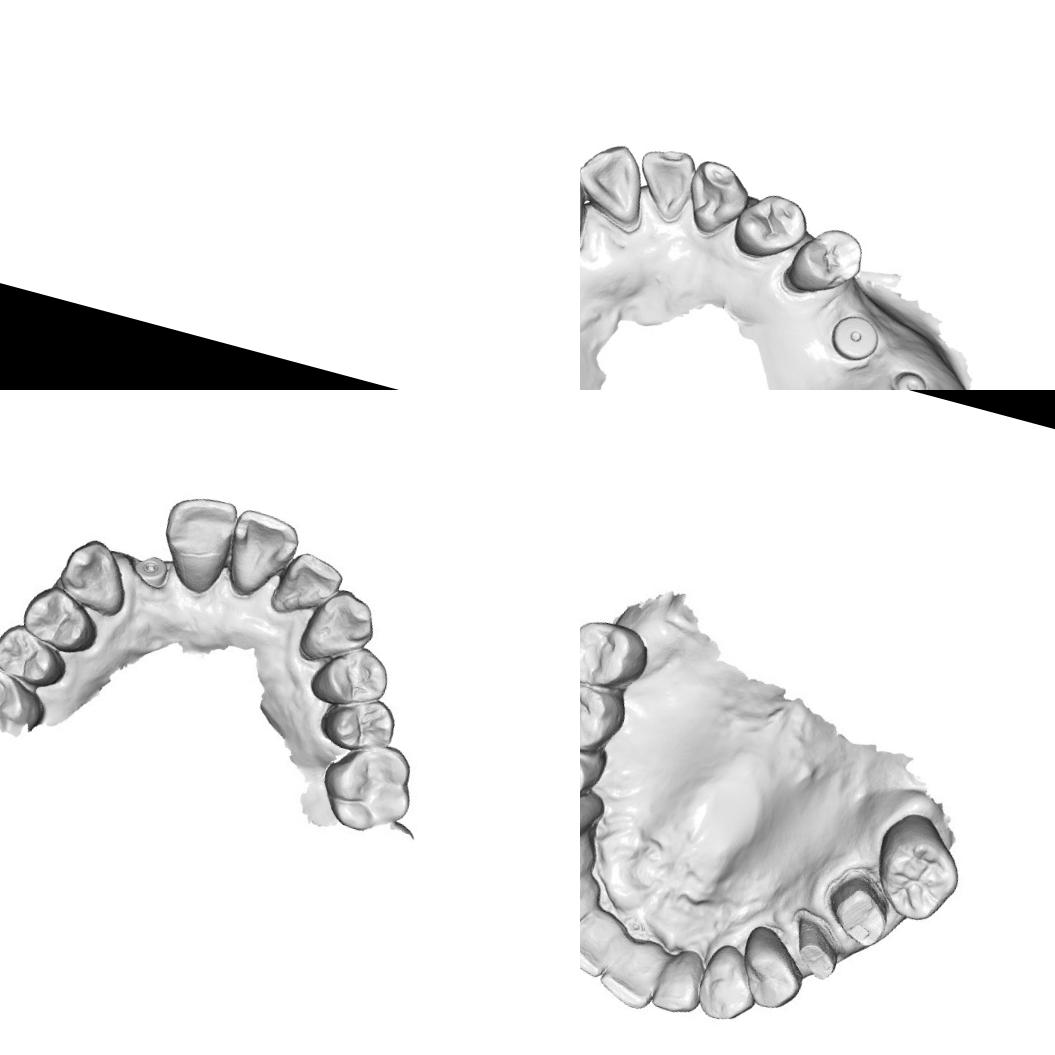canine: (289, 578, 383, 674), (690, 939, 769, 1032), (677, 155, 756, 242), (54, 536, 136, 619), (580, 827, 596, 900)
crown: (818, 872, 900, 954), (784, 907, 855, 984)
implant: (826, 304, 883, 366), (126, 546, 178, 596), (887, 364, 932, 390)
incisor: (152, 488, 245, 596), (218, 507, 304, 609), (580, 134, 655, 228), (626, 139, 702, 228), (595, 929, 669, 1009), (272, 546, 348, 620), (653, 944, 710, 1018), (580, 900, 629, 980), (580, 153, 600, 251), (580, 865, 602, 938)
molar: (861, 806, 973, 928), (313, 730, 423, 844), (580, 612, 646, 692), (580, 675, 622, 757)
premolar: (724, 182, 814, 269), (782, 218, 870, 304), (304, 633, 392, 717), (14, 580, 106, 659), (734, 926, 813, 1014), (314, 688, 402, 762), (0, 617, 72, 695), (580, 740, 605, 806), (580, 788, 603, 851)
